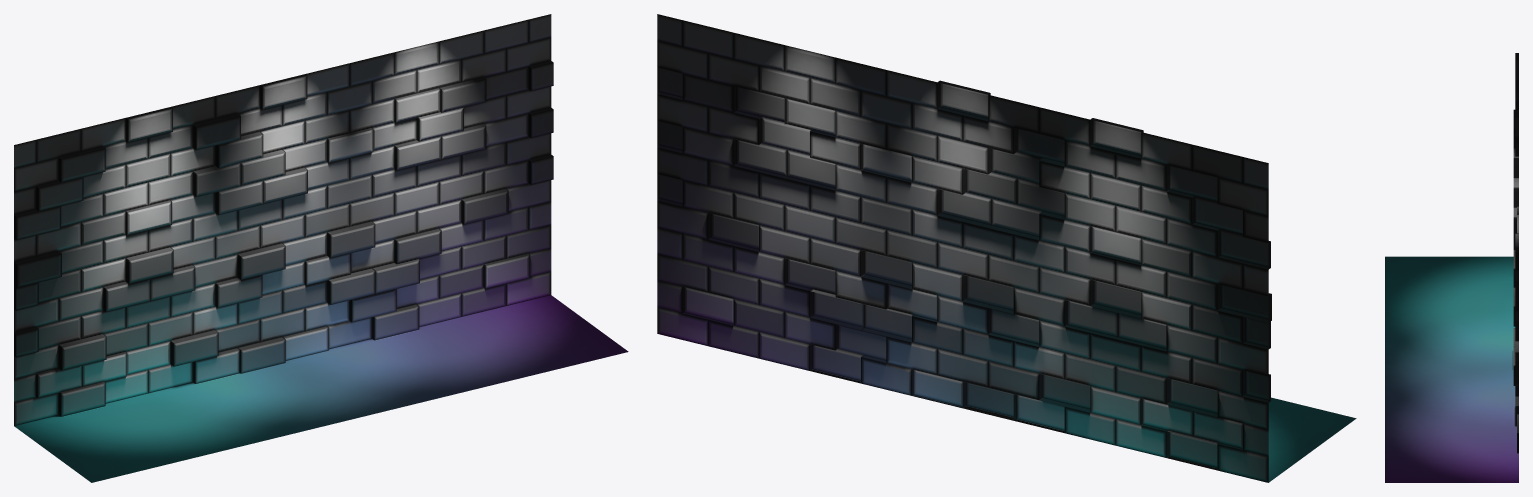
The model's file is wall.glb.
3 views of the same model, side by side, from view 1: azimuth 30°, elevation 25°; view 2: azimuth 150°, elevation 25°; view 3: azimuth 270°, elevation 25° (orthographic). The views are drawn at different scales.
Size of the model in its own units: 4 by 2 by 1.
Materials: 2 (2 with a texture image).
